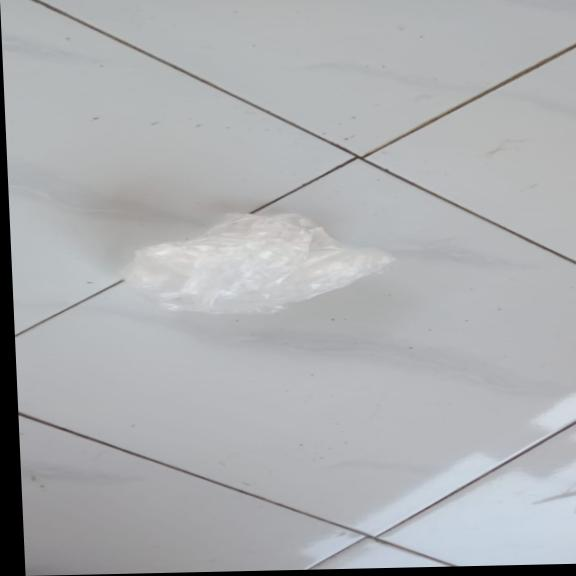Plastik: (125, 209, 405, 320)
